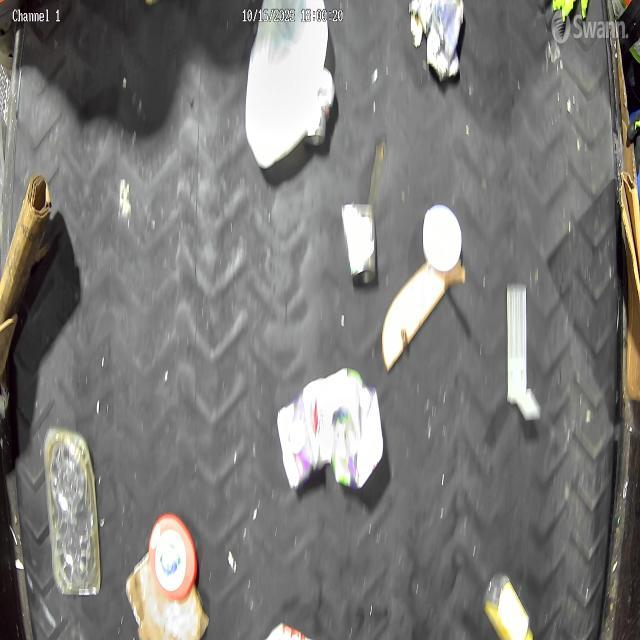can: (341, 203, 377, 285), (428, 0, 464, 81), (409, 0, 432, 50)
milk_jug: (245, 0, 328, 171)
non_white_jug: (277, 369, 384, 491)
